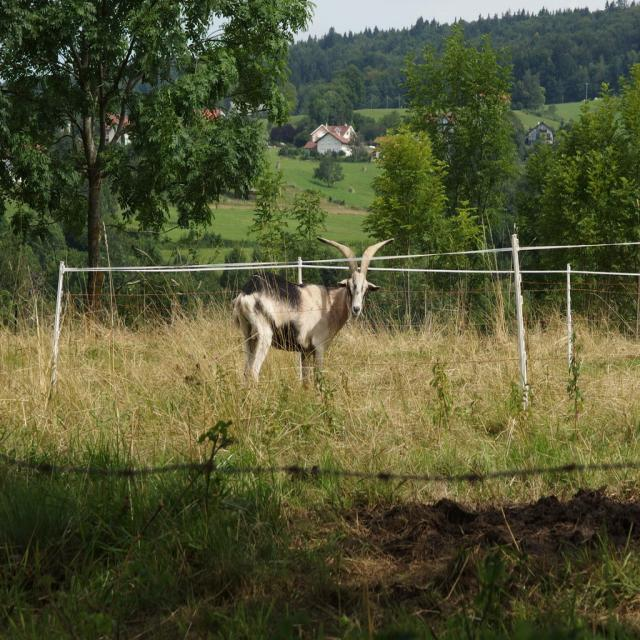Goat: (232, 234, 396, 390)
